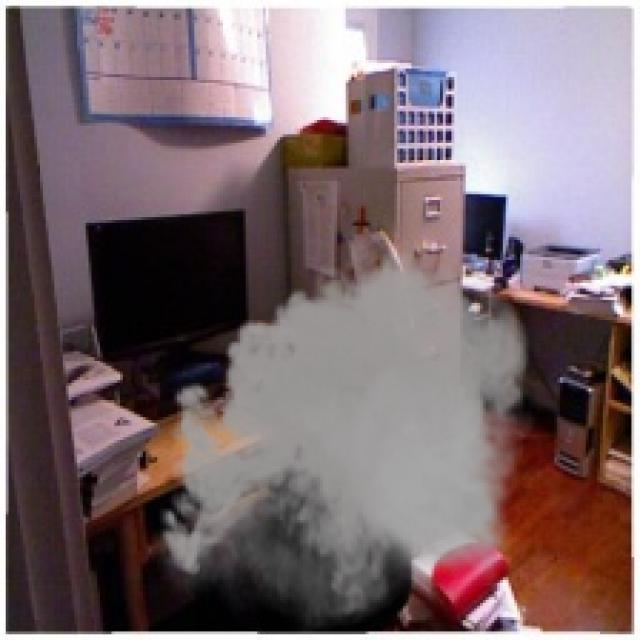smoke: (148, 237, 546, 637)
